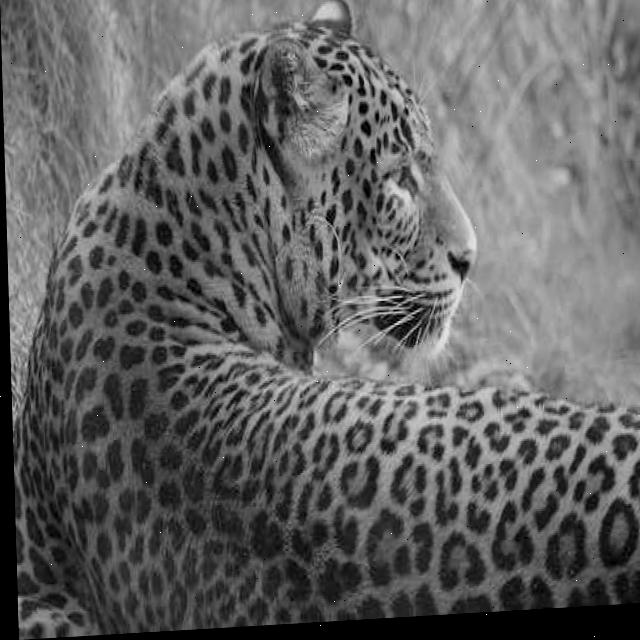Leopard: (1, 0, 640, 638)
